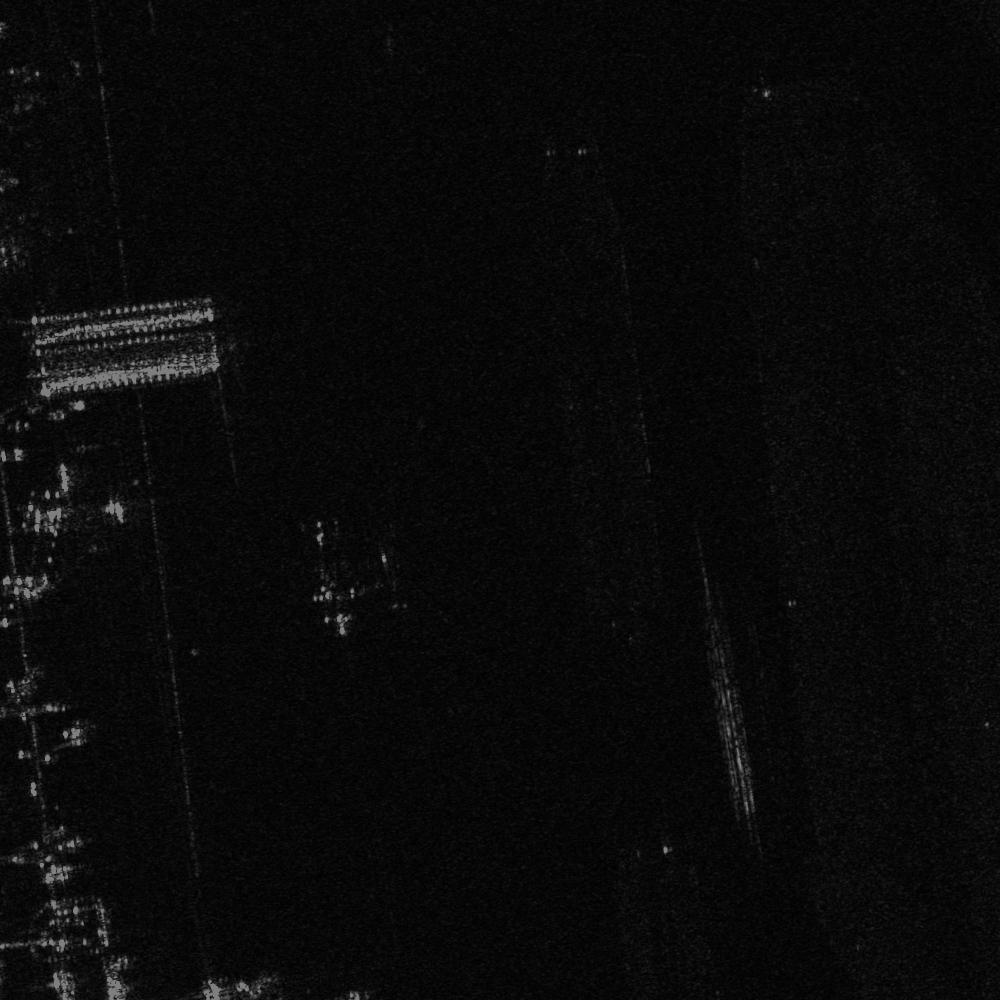Boeing787: (294, 540, 388, 644)
